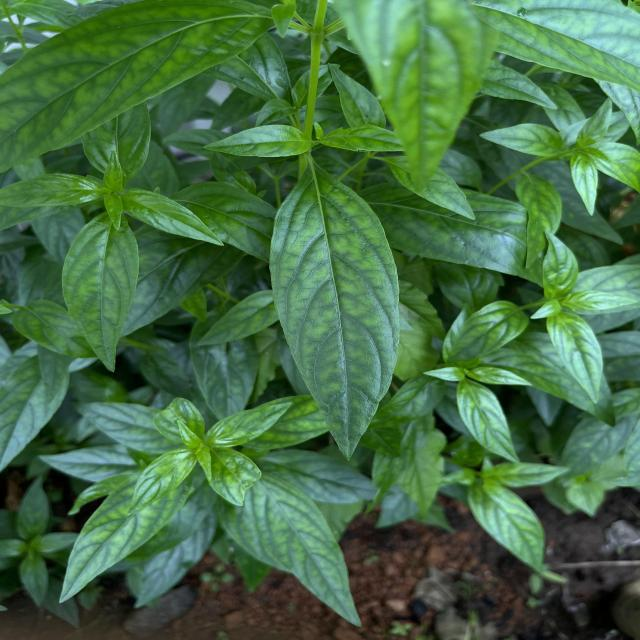Andrographis paniculata: (266, 164, 404, 462), (216, 476, 370, 628), (55, 471, 186, 610), (56, 213, 140, 374), (468, 482, 546, 574), (117, 189, 226, 249), (440, 300, 530, 368), (455, 378, 524, 466), (545, 312, 606, 404), (195, 289, 282, 348), (128, 447, 197, 517), (202, 124, 312, 158), (0, 171, 100, 208), (205, 401, 292, 443), (476, 122, 568, 158)
